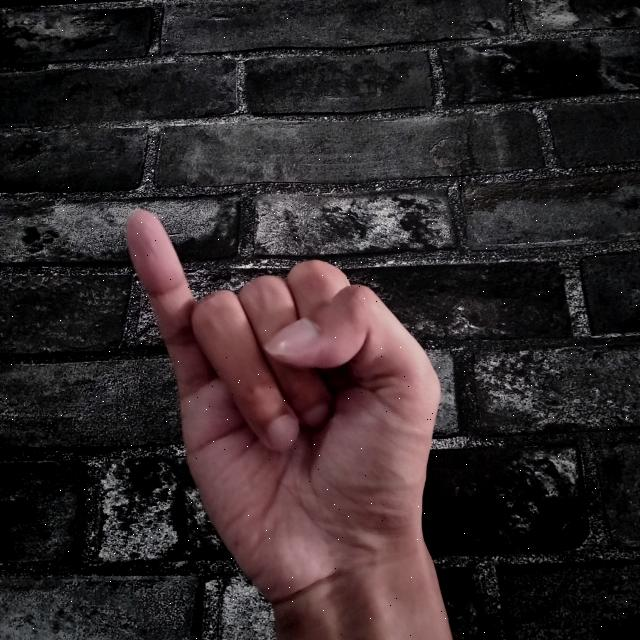I: (121, 205, 452, 640)
